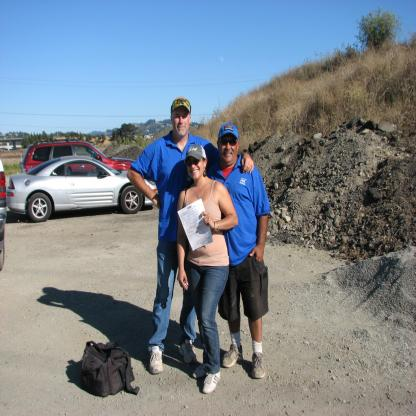Car: (8, 157, 159, 223), (24, 143, 135, 174), (1, 163, 8, 270)
